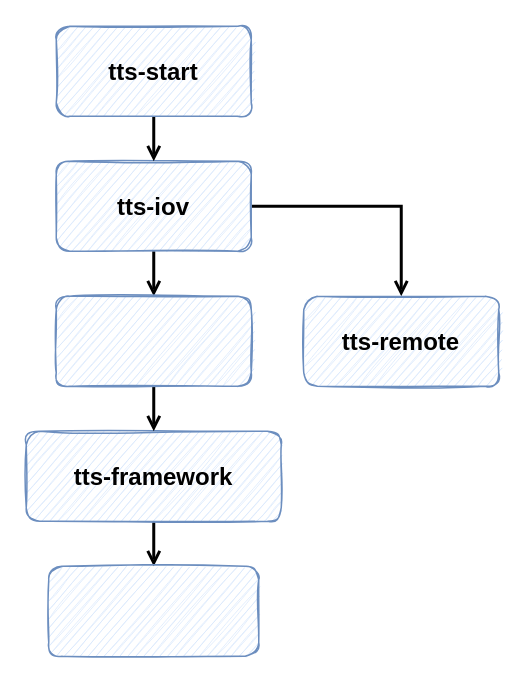
The diagram is 525 pixels wide and 683 high, and some of its shapes have lost their labels. The centre of each missing label's shape, as x and y in pixels:
tts-common: point (153, 610)
tts-node: point (153, 340)
